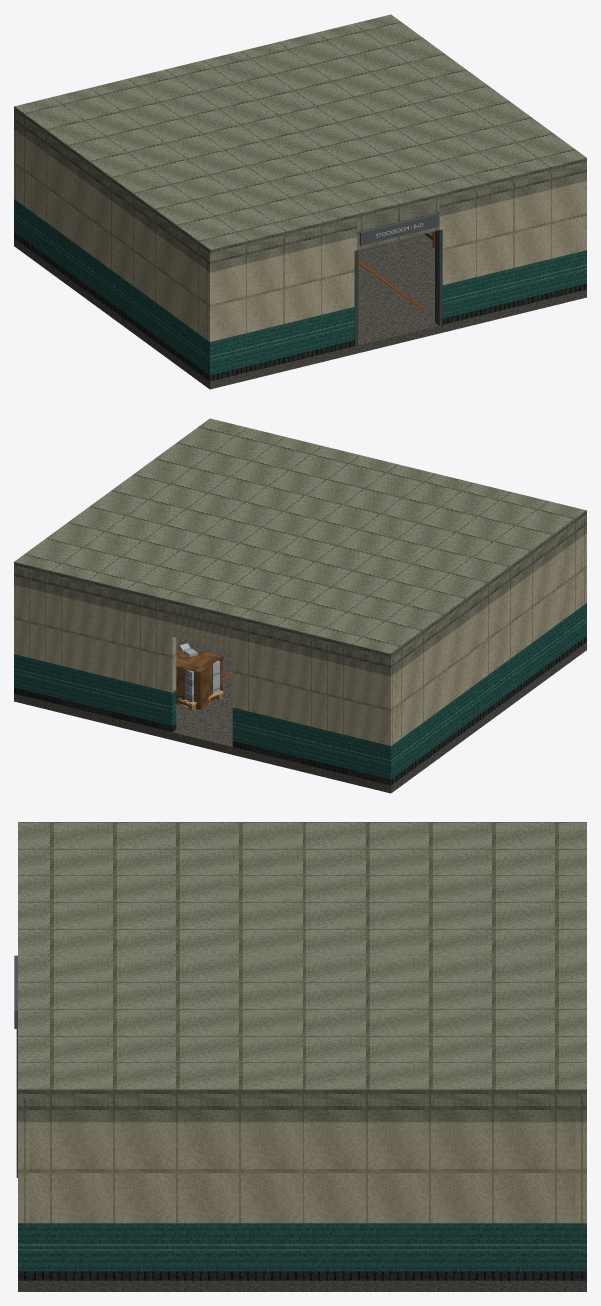
The model's file is stockroom.glb.
3 renders of one model, top to bottom at view 1: azimuth 30°, elevation 25°; view 2: azimuth 150°, elevation 25°; view 3: azimuth 270°, elevation 25°, orthographic. The views are drawn at different scales.
Visible parts, largest first — view 1: Drop ceiling-col, Utility wall-col.006, Concrete slab-col, Utility wall-col.014, Utility wall-col.018, Utility wall-col.005, Utility wall-col.013, Utility wall-col.017, Utility wall-col.007, Utility wall-col.015, Utility wall-col.019, Door header-col (+5 smaller); view 2: Drop ceiling-col, Utility wall-col.006, Rear wall return-col.004, Rear wall return-col.005, Concrete slab-col, Utility wall-col.005, Rear wall return-col.003, Rear wall return-col.002, Utility wall-col.007, Rear wall return-col.006, Rear wall return-col.007, Inbound pallet-colonly.001 (+6 smaller); view 3: Drop ceiling-col, Utility wall-col.010, Utility wall-col.009, Utility wall-col.011, Concrete slab-col, Utility wall-col.008, Rear wall return-col.005, Utility wall-col.018.
Boxes of the visible parts, <box> form: Drop ceiling-col: <box>14,14,586,255</box>; Utility wall-col.006: <box>18,132,205,338</box>; Concrete slab-col: <box>14,234,586,389</box>; Utility wall-col.014: <box>206,237,356,341</box>; Utility wall-col.018: <box>440,181,586,285</box>; Utility wall-col.005: <box>18,202,205,371</box>; Utility wall-col.013: <box>206,307,354,375</box>; Utility wall-col.017: <box>442,250,586,318</box>; Utility wall-col.007: <box>18,116,205,269</box>; Utility wall-col.015: <box>206,220,356,272</box>; Utility wall-col.019: <box>440,164,586,216</box>; Door header-col: <box>357,199,439,249</box>; Drop ceiling-col: <box>14,418,586,659</box>; Utility wall-col.006: <box>395,536,582,742</box>; Rear wall return-col.004: <box>232,638,394,745</box>; Rear wall return-col.005: <box>14,585,176,692</box>; Concrete slab-col: <box>14,638,586,793</box>; Utility wall-col.005: <box>395,606,582,775</box>; Rear wall return-col.003: <box>14,654,176,725</box>; Rear wall return-col.002: <box>232,707,394,779</box>; Utility wall-col.007: <box>395,520,582,673</box>; Rear wall return-col.006: <box>232,621,394,676</box>; Rear wall return-col.007: <box>14,568,172,623</box>; Inbound pallet-colonly.001: <box>176,645,222,709</box>; Drop ceiling-col: <box>18,822,586,1098</box>; Utility wall-col.010: <box>29,1122,575,1223</box>; Utility wall-col.009: <box>29,1223,575,1271</box>; Utility wall-col.011: <box>29,1097,575,1122</box>; Concrete slab-col: <box>18,1280,586,1291</box>; Utility wall-col.008: <box>29,1271,575,1280</box>; Rear wall return-col.005: <box>575,1122,586,1223</box>; Utility wall-col.018: <box>18,1122,29,1223</box>.
Size of what is drawn, in the model's own units: 10 by 3.54 by 9.06.
13 materials, 8 textured.
